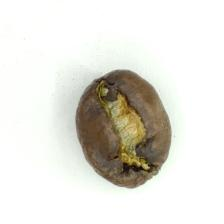NG: (86, 76, 156, 179)
